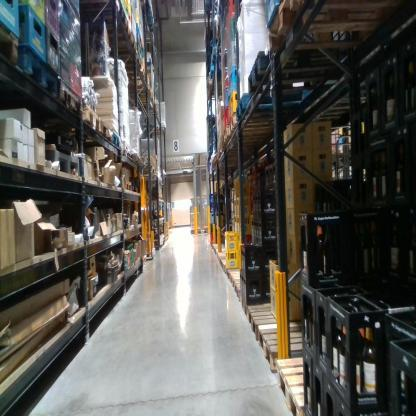pallets: (220, 0, 404, 157), (244, 291, 344, 415), (0, 37, 92, 122), (233, 46, 278, 117), (211, 233, 252, 297), (82, 107, 128, 148), (45, 146, 93, 179)
